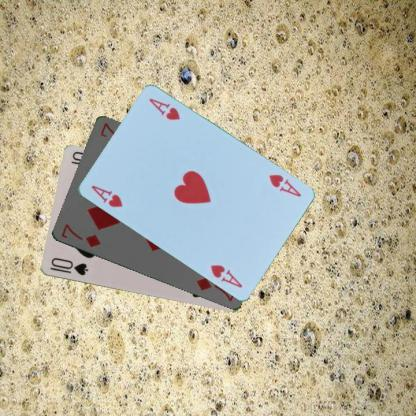10s: (46, 255, 90, 277)
7d: (58, 221, 102, 249)
Ah: (88, 183, 124, 209), (266, 172, 302, 198)
